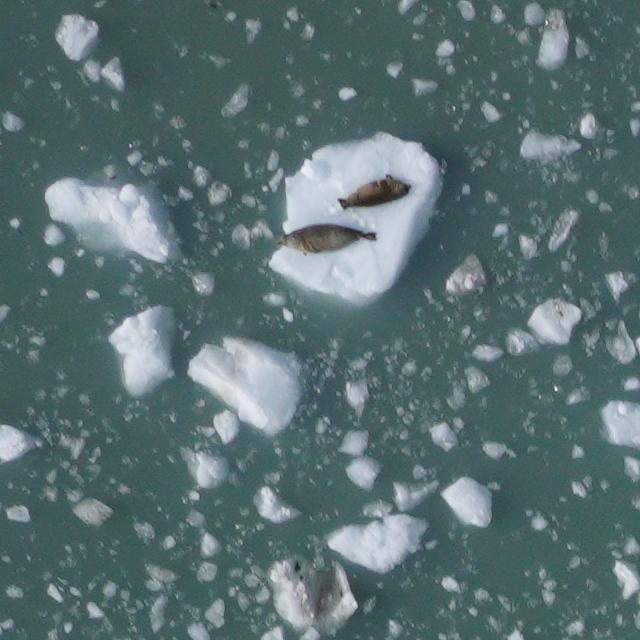seal: (274, 214, 380, 263), (333, 167, 415, 218)
